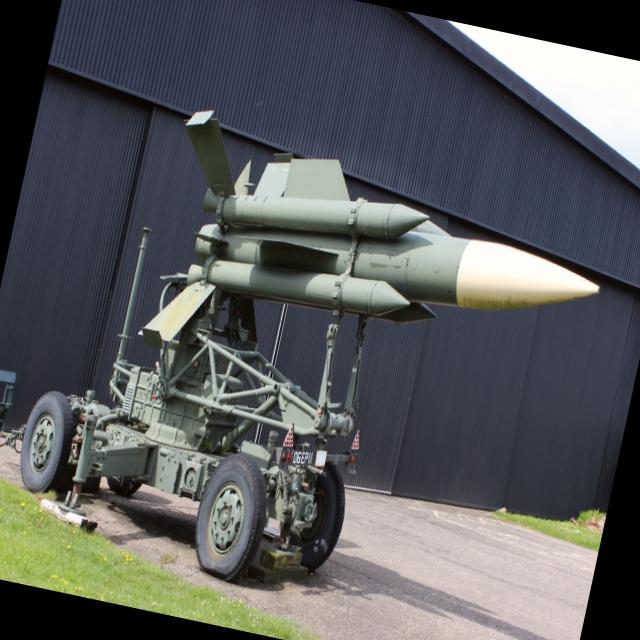rocket: (147, 99, 623, 401)
